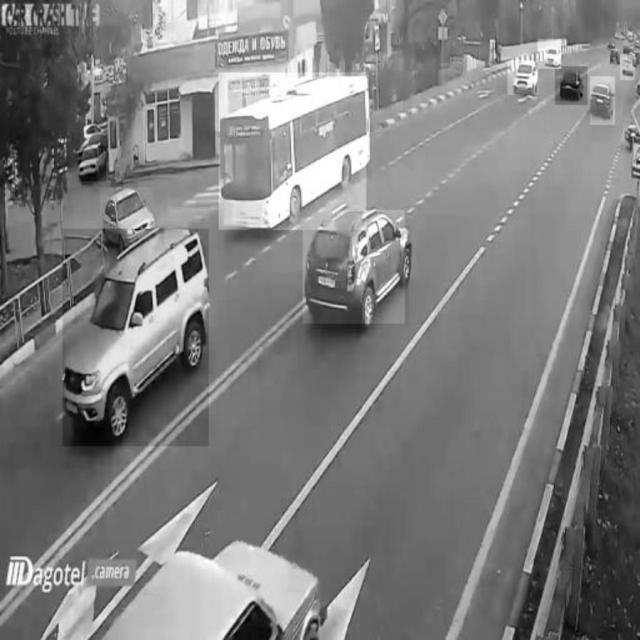vehicle: (63, 230, 209, 447), (219, 73, 366, 230), (302, 210, 404, 323), (101, 188, 153, 250), (590, 77, 616, 125), (555, 66, 587, 104), (508, 60, 538, 95), (79, 146, 106, 181), (538, 39, 562, 69), (620, 54, 635, 80)
